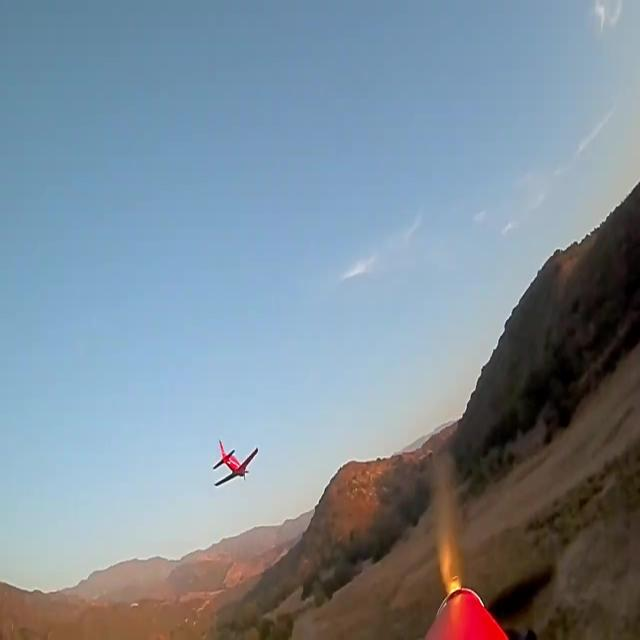iha: (212, 438, 259, 488)
